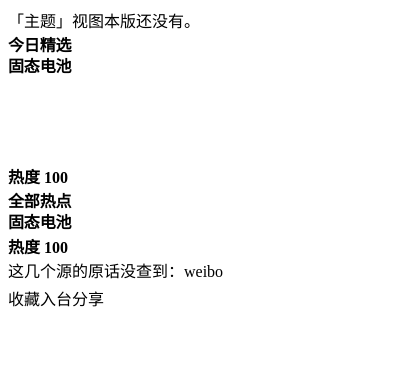
it: 收藏与分享 › 失败时说的是服务端那句话，NEVER 一句「操作失败」盖住它
This screenshot has width=394, height=373.
Click the button with test id "action-share" at x=88, y=298, box [72,282,104,314]
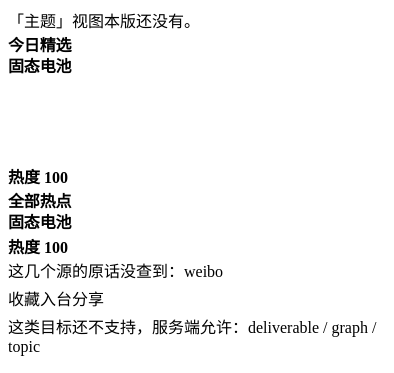
Result: the message with test id "action-outcome" shows "deliverable" at [8,319,376,355]
